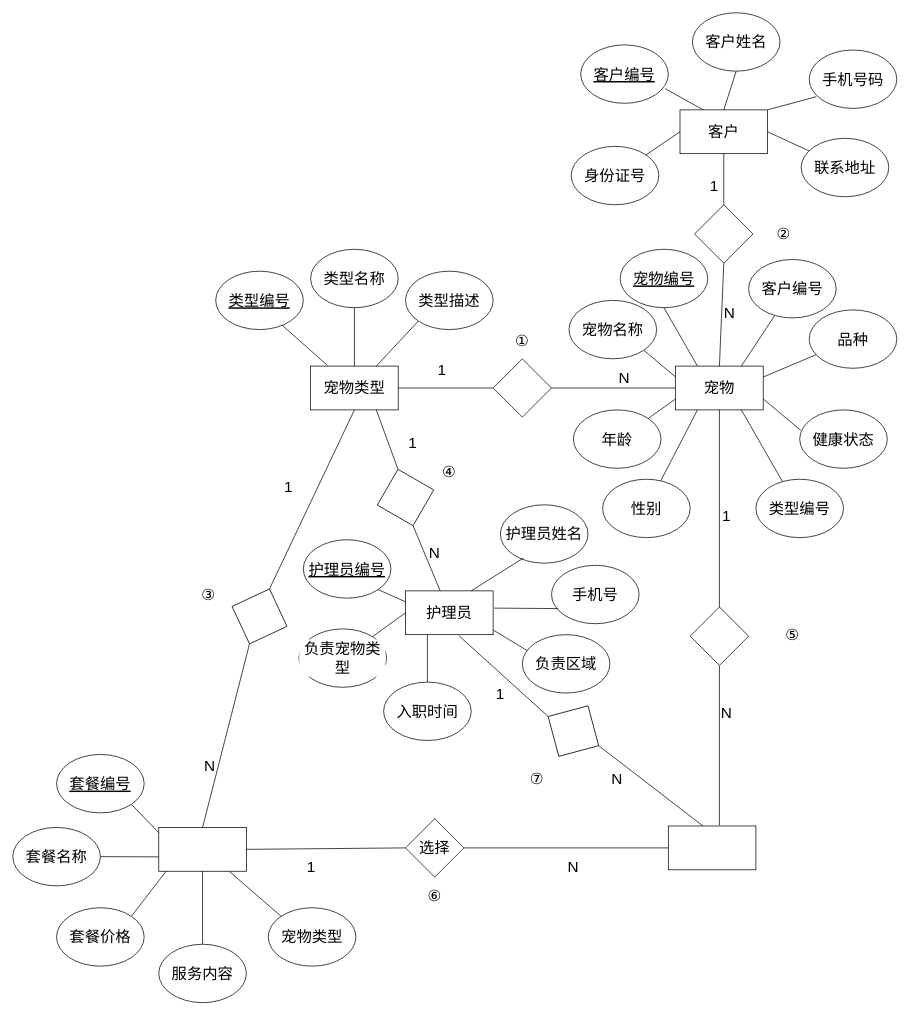
Some shapes in this 910 by 1015 pixel diagram are drawn without their labels. Each missing label, with the centre of its shape:
"产生" belongs at point 719,635.
"包含" belongs at point 522,387.
"寄养套餐" belongs at point 202,849.
"寄养记录" belongs at point 712,847.
"对应" belongs at point 259,616.
"拥有" belongs at point 723,233.
"负责" belongs at point 573,730.
"适配" belongs at point 405,497.
